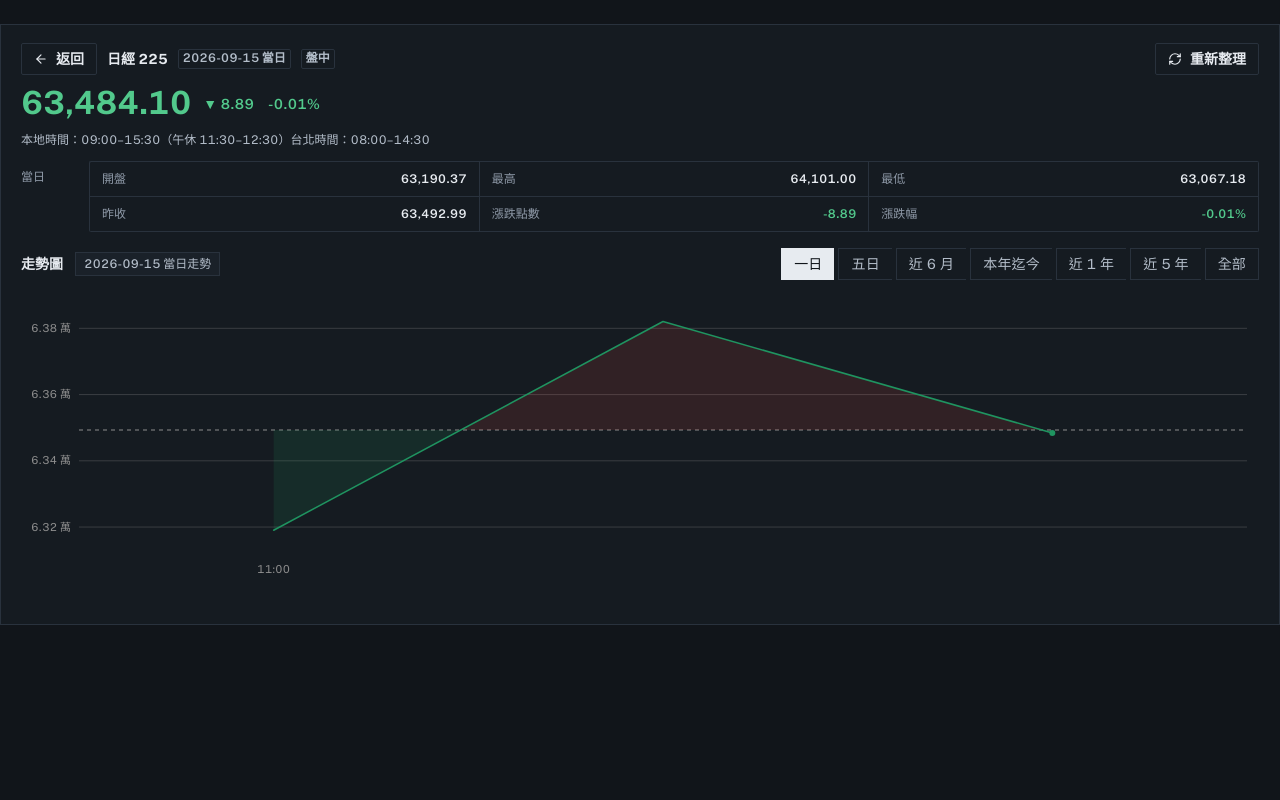
Test: IndexDetail — 區間按鈕 › 切到日線區間若抓取失敗，走勢圖清空而非殘留一日資料
This screenshot has width=1280, height=800.
Check: the element with test id "index-range-buttons" is shown, box [781,248,1259,280]
Click the button "近 6 月" at (931, 264), box [896,248,966,280]
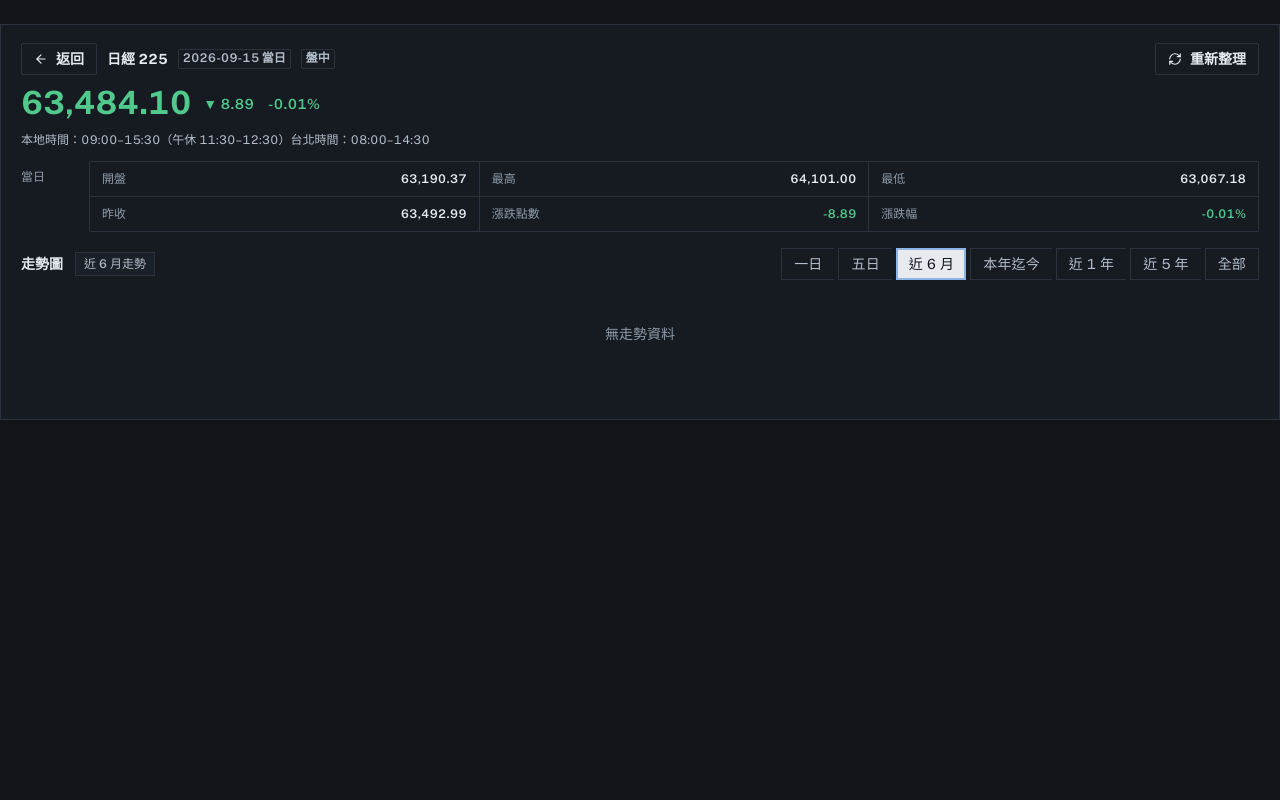
Check: the text "無走勢資料" is shown, box [605,326,675,342]
